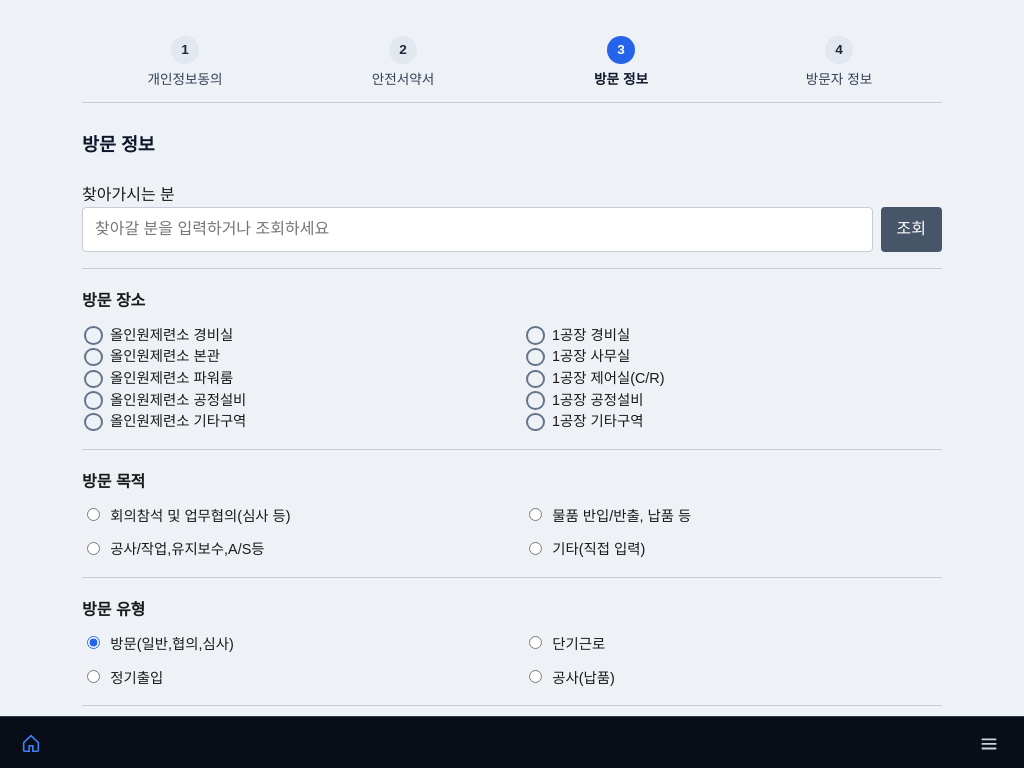
it: S33: 방문 장소 다중 선택 › 여러 장소를 선택한 뒤 다음으로 넘기면 draft에 모두 남는다
Step 1. Type "담당자" into the field labelled "찾아가시는 분" → (477, 229), box [82,207,872,252]
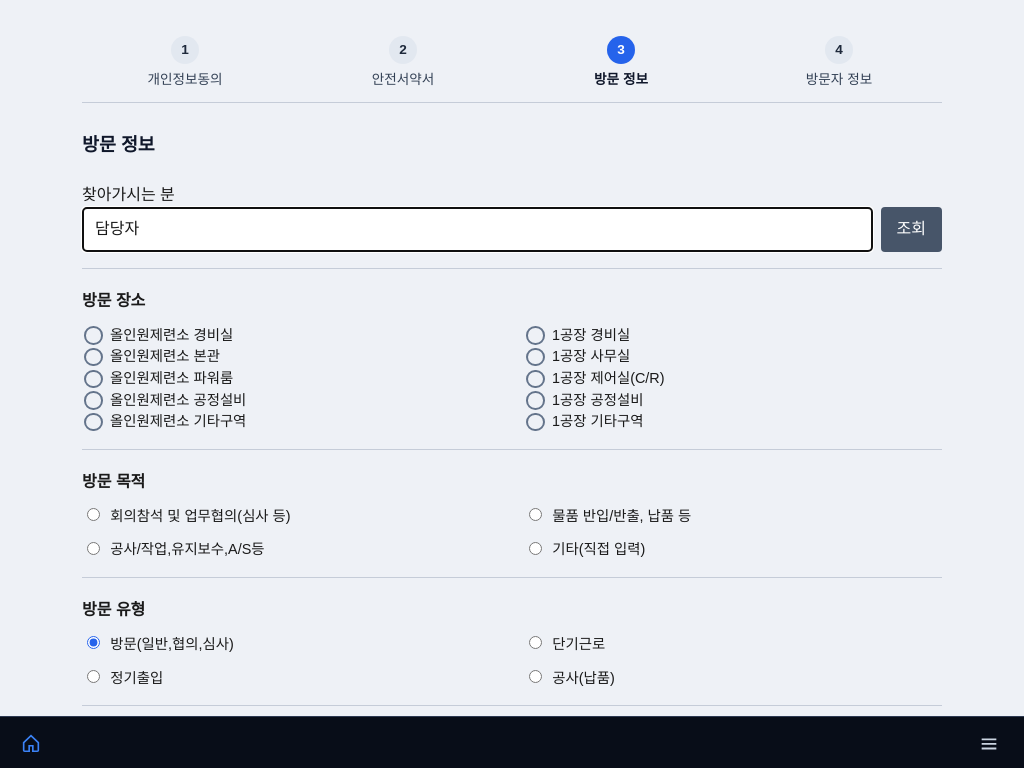
Step 2. Click the checkbox labelled "올인원제련소 경비실" → (159, 336), box [84,326,233,345]
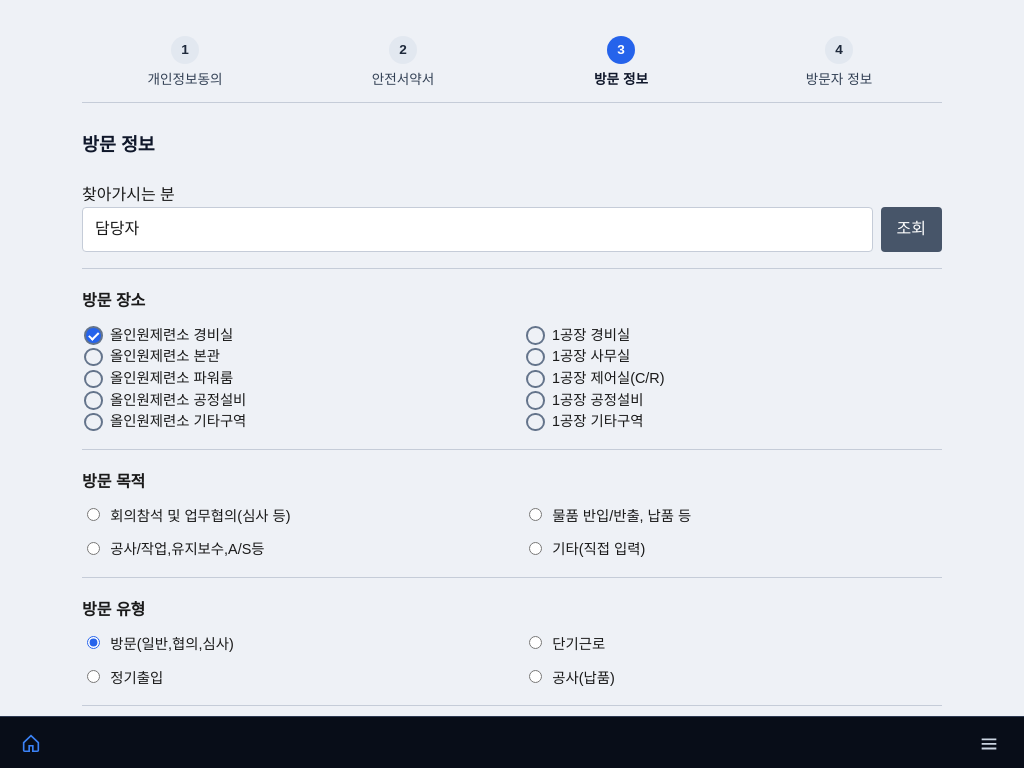
Step 3. Click the checkbox labelled "올인원제련소 본관" → (152, 357), box [84,348,220,366]
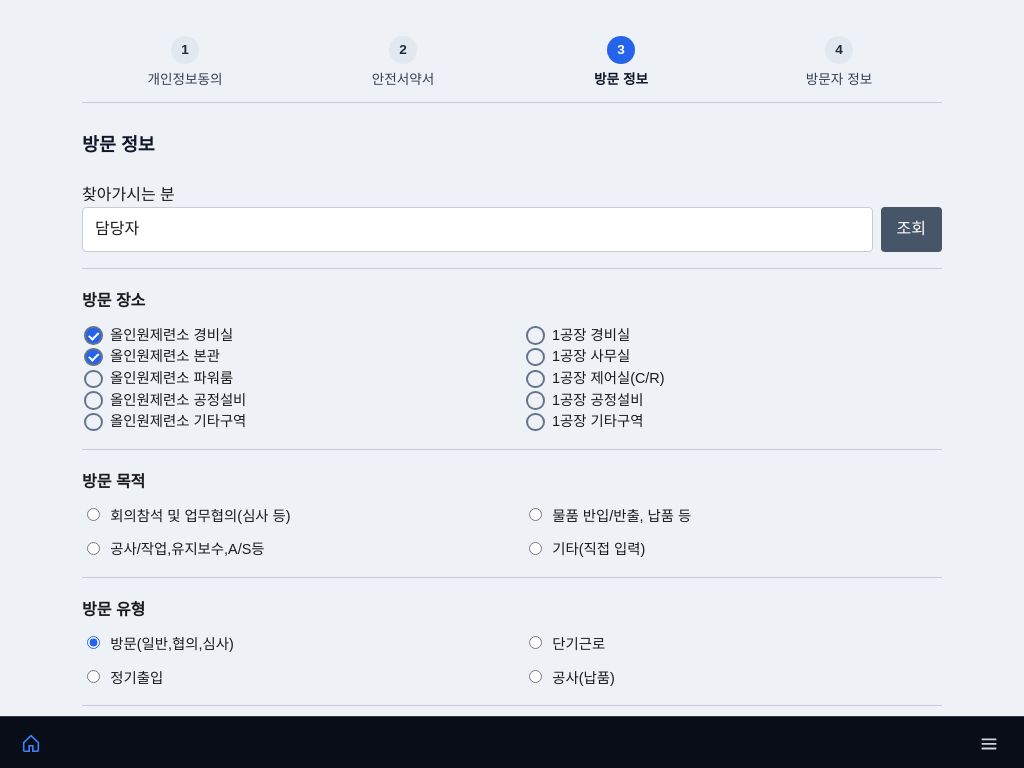
Step 4. Click the radio button labelled "회의참석 및 업무협의(심사 등)" → (94, 515), box [87,508,100,521]
(page scrolled)
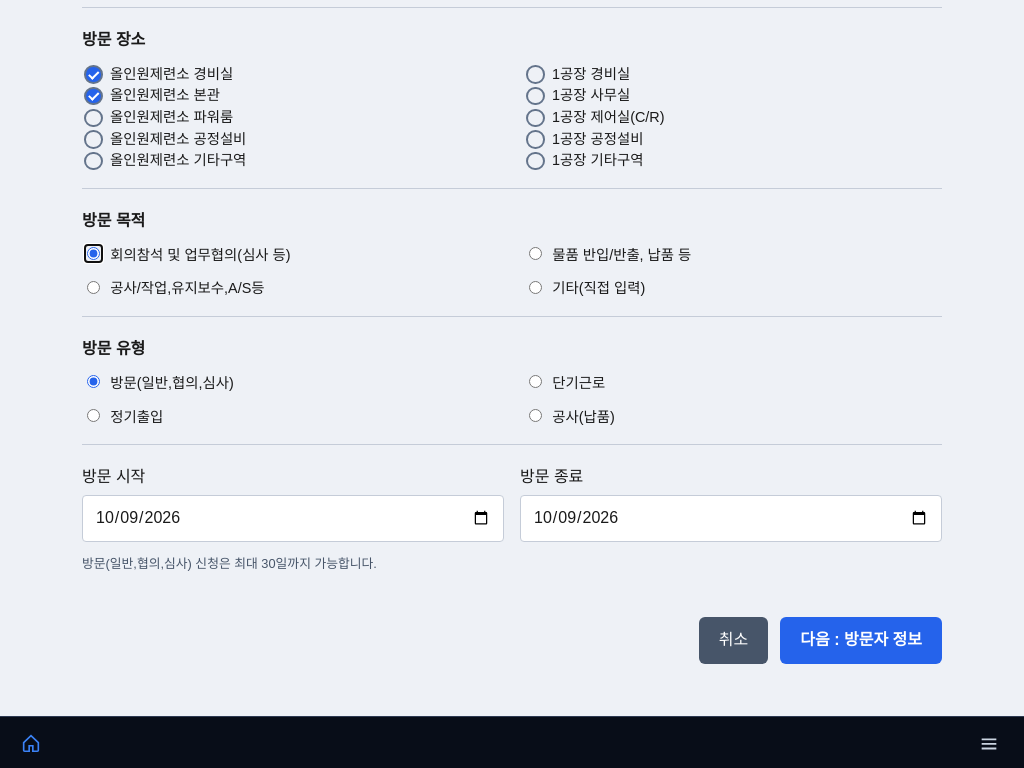
Step 5. Click the button "다음 : 방문자 정보" → (861, 640), box [780,617,942,664]
(page scrolled)
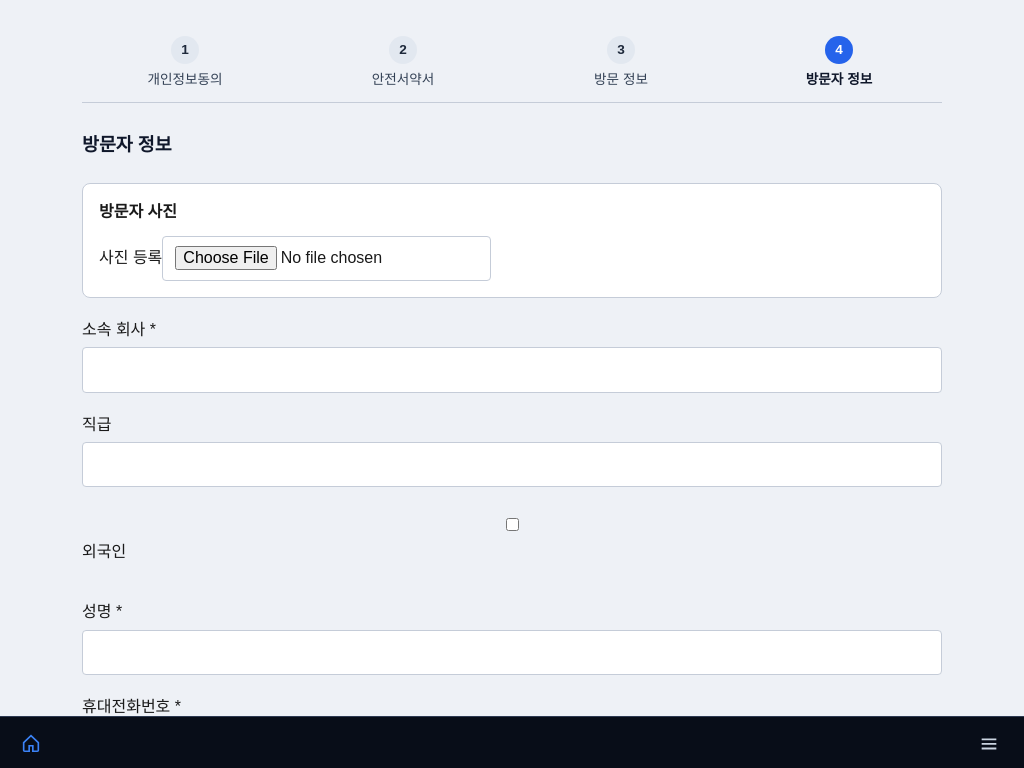
Check: the heading "방문자 정보" is shown, box [82,134,172,155]
